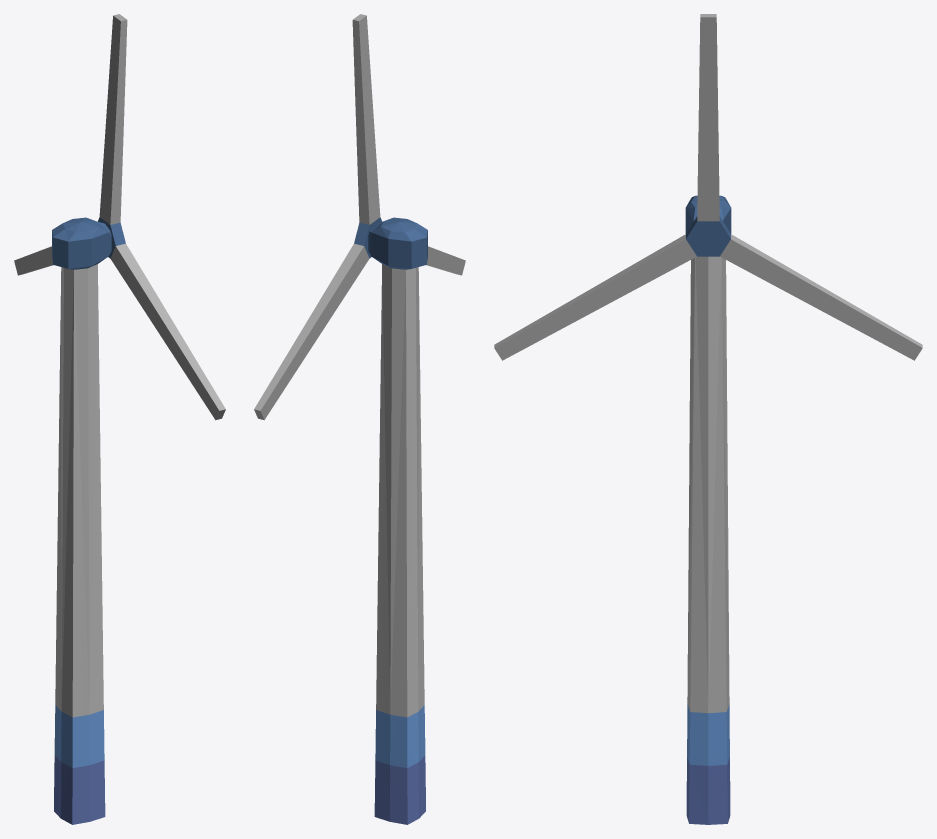
The model's file is Windmill_Blue.fbx.
3 views of the same model, side by side, from view 1: azimuth 30°, elevation 25°; view 2: azimuth 150°, elevation 25°; view 3: azimuth 270°, elevation 25° (orthographic). The views are drawn at different scales.
Visible parts, largest first — view 1: WindTurbine_Base_Blue, WindTurbine_Blade_Blue; view 2: WindTurbine_Base_Blue, WindTurbine_Blade_Blue; view 3: WindTurbine_Base_Blue, WindTurbine_Blade_Blue.
Boxes of the visible parts, bbox=[...] form: WindTurbine_Base_Blue: bbox=[52, 217, 111, 824]; WindTurbine_Blade_Blue: bbox=[14, 14, 225, 420]; WindTurbine_Base_Blue: bbox=[368, 217, 427, 824]; WindTurbine_Blade_Blue: bbox=[254, 14, 465, 420]; WindTurbine_Base_Blue: bbox=[685, 195, 731, 824]; WindTurbine_Blade_Blue: bbox=[494, 14, 922, 360].
Bounding box in the file's own units: 214 × 2290 × 1084.
